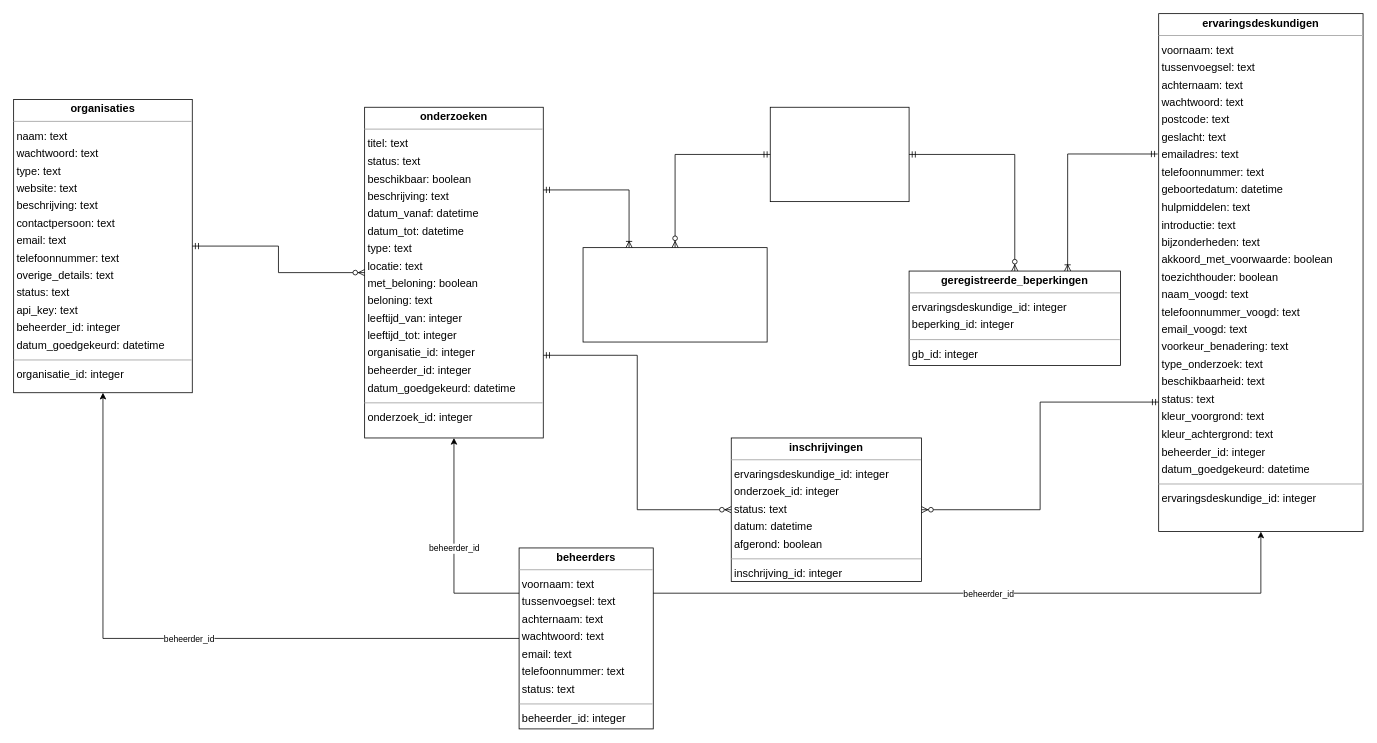
This 1377x743 diagram has some shape labels left out. Here are the shapes that lost their labels. From the top down, the box of each, then its label:
(769, 106, 909, 202): alle_beperkingen naam: text type: text beperking_id: integer
(582, 247, 767, 342): onderzoek_beperkingen onderzoek_id: integer beperking_id: integer ob_id: integer
